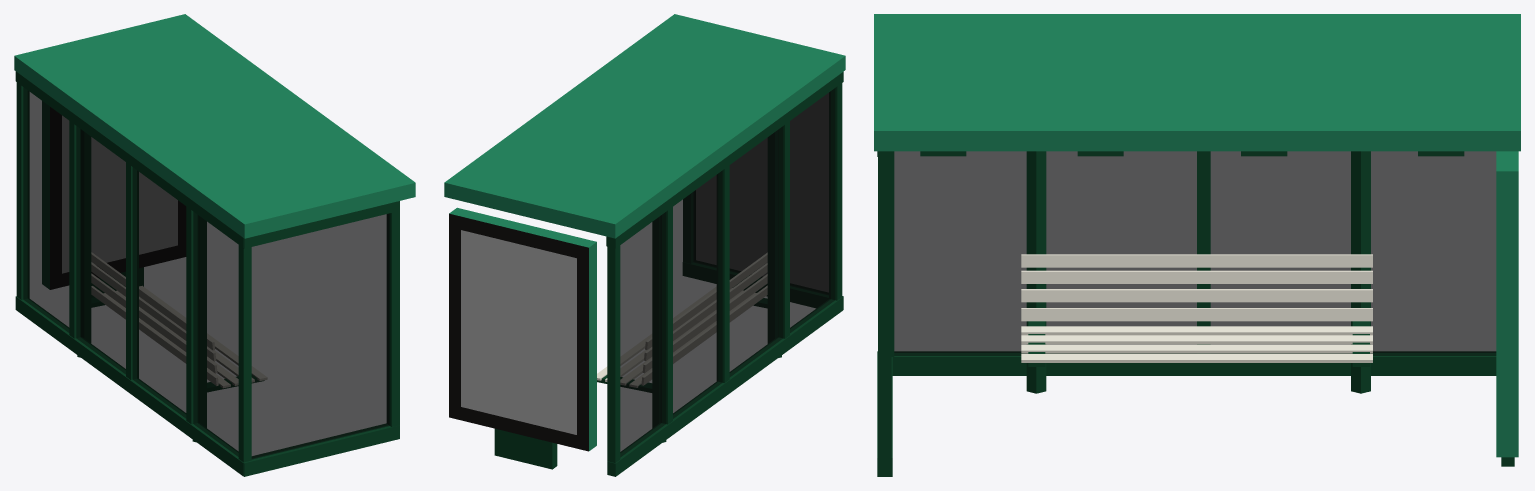
Rendered from BusStop.fbx.
3 renders of one model, left to right at view 1: azimuth 30°, elevation 25°; view 2: azimuth 150°, elevation 25°; view 3: azimuth 270°, elevation 25°, orthographic. The views are drawn at different scales.
Parts seen in each view (by area): view 1: pCube19, pPlane2, pPlane1, pPlane3, pPlane4, pCube24, pCube1, pCube18, pCube4, pCube5, pCube27, pCube3 (+8 smaller); view 2: pCube19, pPlane2, pPlane1, pCube24, pCube1, pCube18, pCube27, pCube4, pCube6, pCube9, pCube2, pCube11 (+6 smaller); view 3: pCube19, pPlane1, pPlane2, pCube18, pCube17, pCube1, pCube24, pCube7, pCube11, pCube12, pCube6, pCube4.
Part boxes in pixels (<box>): pCube19: <box>14,14,415,238</box>; pPlane2: <box>23,87,238,456</box>; pPlane1: <box>28,91,238,451</box>; pPlane3: <box>252,213,389,459</box>; pPlane4: <box>252,214,388,457</box>; pCube24: <box>42,101,185,289</box>; pCube1: <box>15,296,243,475</box>; pCube18: <box>91,252,218,385</box>; pCube4: <box>238,245,251,462</box>; pCube5: <box>186,206,199,424</box>; pCube27: <box>16,82,29,299</box>; pCube3: <box>239,423,399,476</box>; pCube19: <box>444,14,845,238</box>; pPlane2: <box>620,88,834,456</box>; pPlane1: <box>620,91,830,452</box>; pCube24: <box>449,207,596,451</box>; pCube1: <box>607,297,842,476</box>; pCube18: <box>641,253,767,385</box>; pCube27: <box>607,245,620,462</box>; pCube4: <box>829,83,842,300</box>; pCube6: <box>717,165,729,382</box>; pCube9: <box>660,207,672,424</box>; pCube2: <box>606,72,842,248</box>; pCube11: <box>754,130,781,357</box>; pCube19: <box>874,14,1520,151</box>; pPlane1: <box>894,151,1495,355</box>; pPlane2: <box>894,151,1495,352</box>; pCube18: <box>1021,254,1372,321</box>; pCube17: <box>1021,326,1372,362</box>; pCube1: <box>893,351,1496,375</box>; pCube24: <box>1496,151,1518,457</box>; pCube7: <box>878,157,891,457</box>; pCube11: <box>1026,151,1046,393</box>; pCube12: <box>1351,151,1370,393</box>; pCube6: <box>1197,151,1210,375</box>; pCube4: <box>891,151,894,375</box>.
Size of the model in its own units: 6 by 8.81 by 14.
